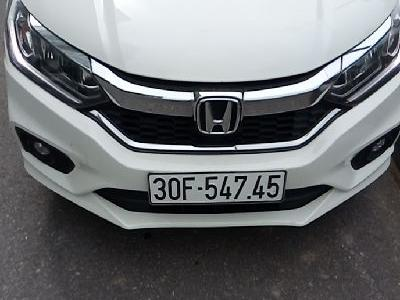car: (147, 169, 287, 206)
